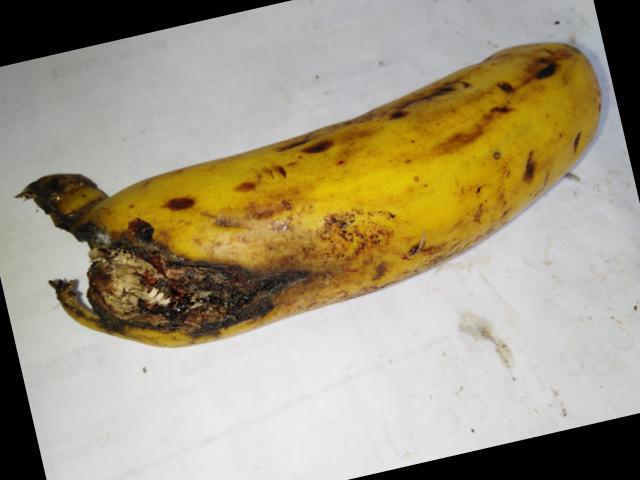rotten: (41, 160, 309, 369)
